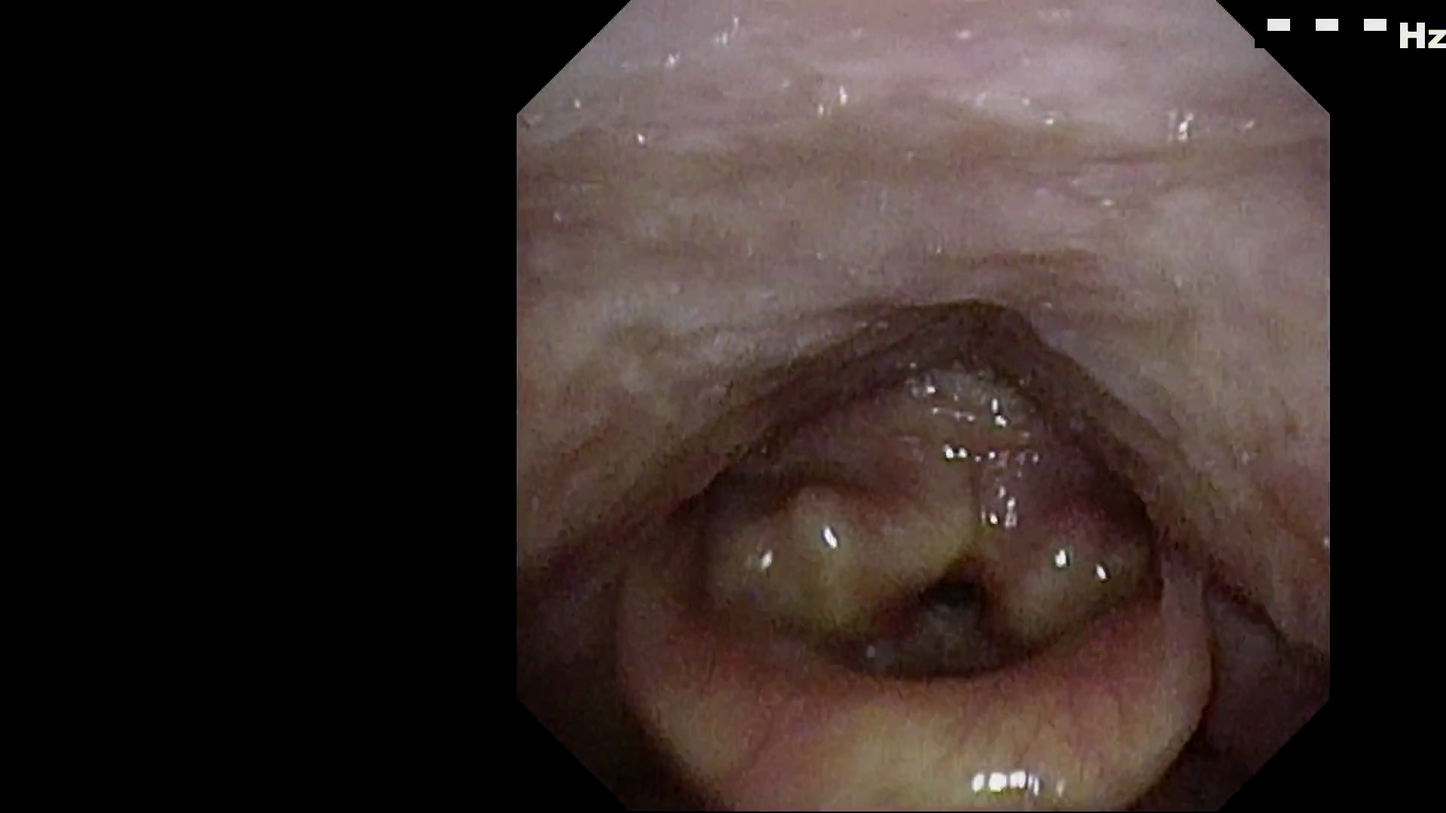epiglottis: (623, 556, 1211, 765)
trachea: (909, 561, 1007, 670)
